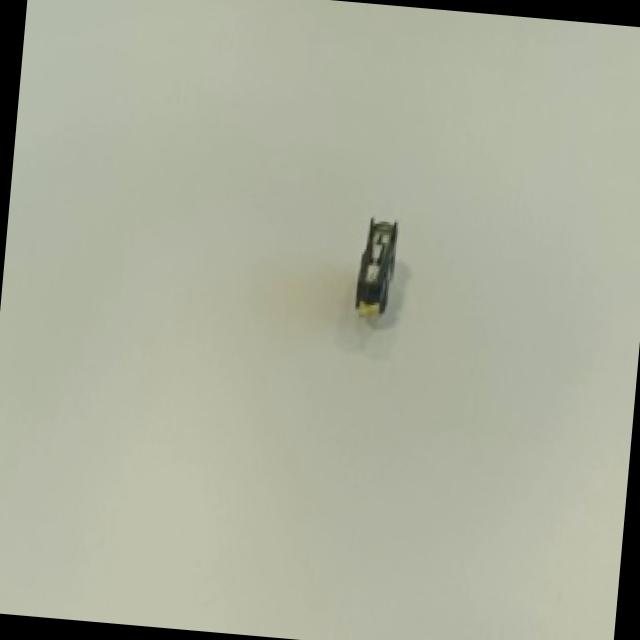6_NanoBug_GrisOscuro: (290, 176, 456, 360)
